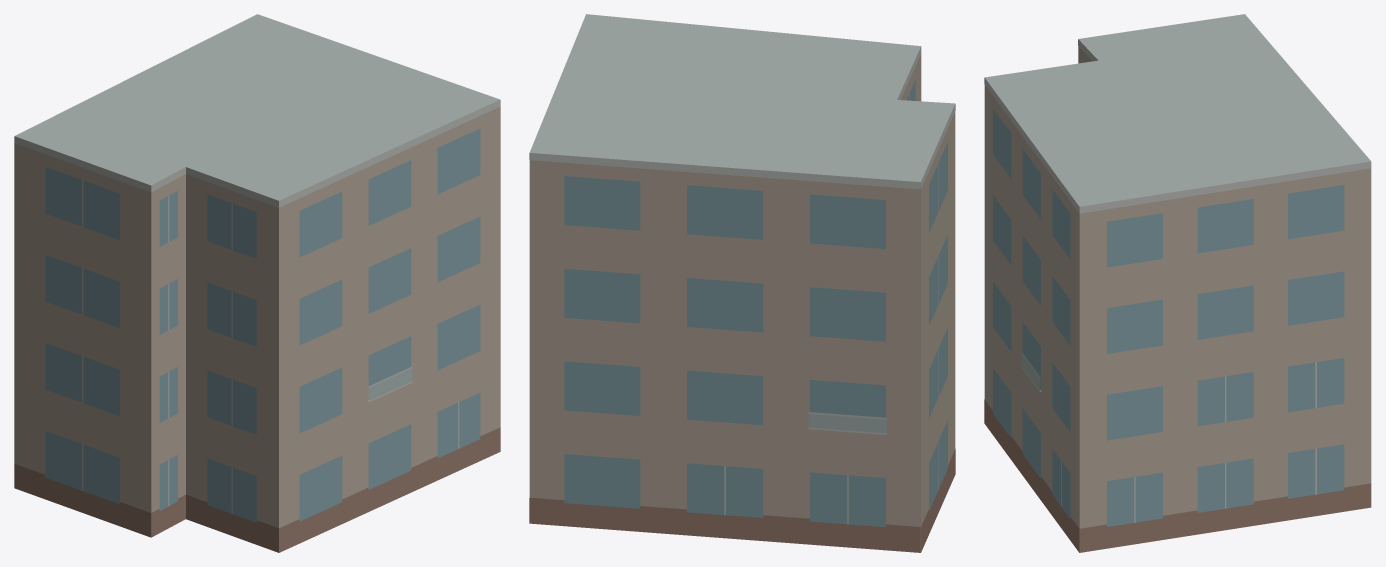
The model's file is survey-upis-32842369.glb.
3 views of the same model, side by side, from view 1: azimuth 30°, elevation 25°; view 2: azimuth 150°, elevation 25°; view 3: azimuth 270°, elevation 25° (orthographic). The views are drawn at different scales.
Visible parts, largest first — view 1: survey-upis-32842369.tmp; view 2: survey-upis-32842369.tmp; view 3: survey-upis-32842369.tmp.
Part boxes in pixels (x1,y1,x2,y2): survey-upis-32842369.tmp: (14, 14, 500, 552); survey-upis-32842369.tmp: (529, 14, 955, 552); survey-upis-32842369.tmp: (984, 14, 1371, 552).
Bounding box in the file's own units: 14.83 × 12.4 × 12.58.
